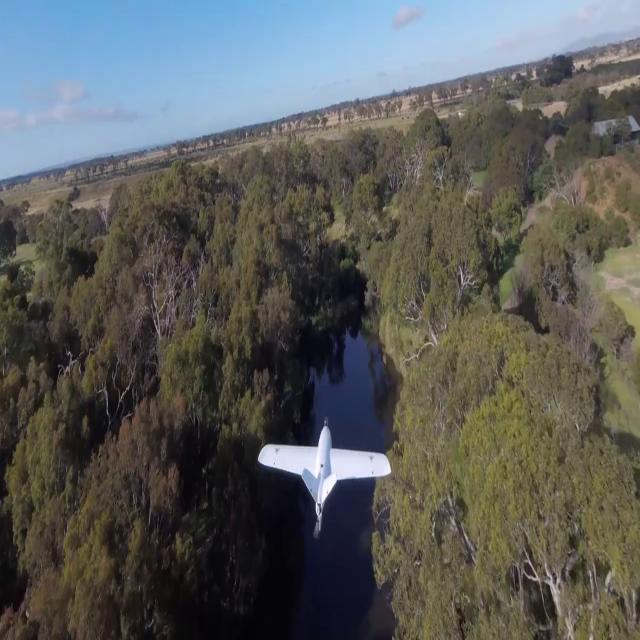iha: (259, 455, 392, 493)
